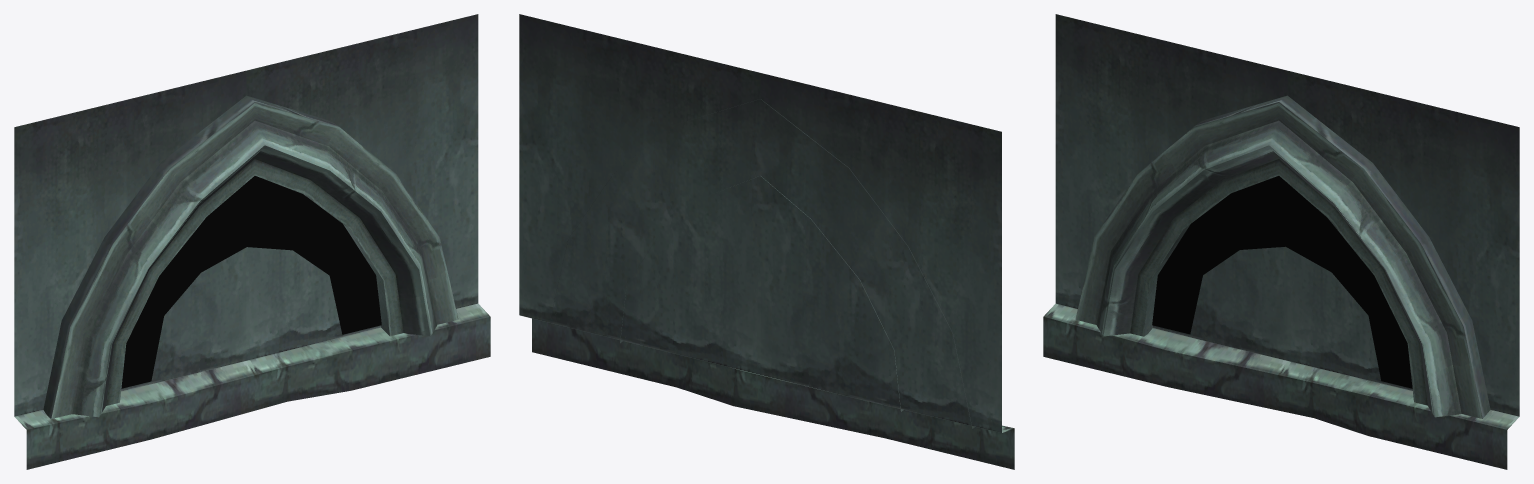
File: crypt_half_straight_02.fbx
3 renders of one model, left to right at view 1: azimuth 30°, elevation 25°; view 2: azimuth 150°, elevation 25°; view 3: azimuth 330°, elevation 25°, orthographic. The views are drawn at different scales.
Visible parts, largest first — view 1: crypt_half_straight_02-0; view 2: crypt_half_straight_02-0; view 3: crypt_half_straight_02-0.
Boxes of the visible parts, x1,y1,x2,y2 form: crypt_half_straight_02-0: (14, 14, 490, 469); crypt_half_straight_02-0: (519, 14, 1014, 469); crypt_half_straight_02-0: (1043, 14, 1519, 469).
Bounding box in the file's own units: 4 × 2.75 × 0.2784.
